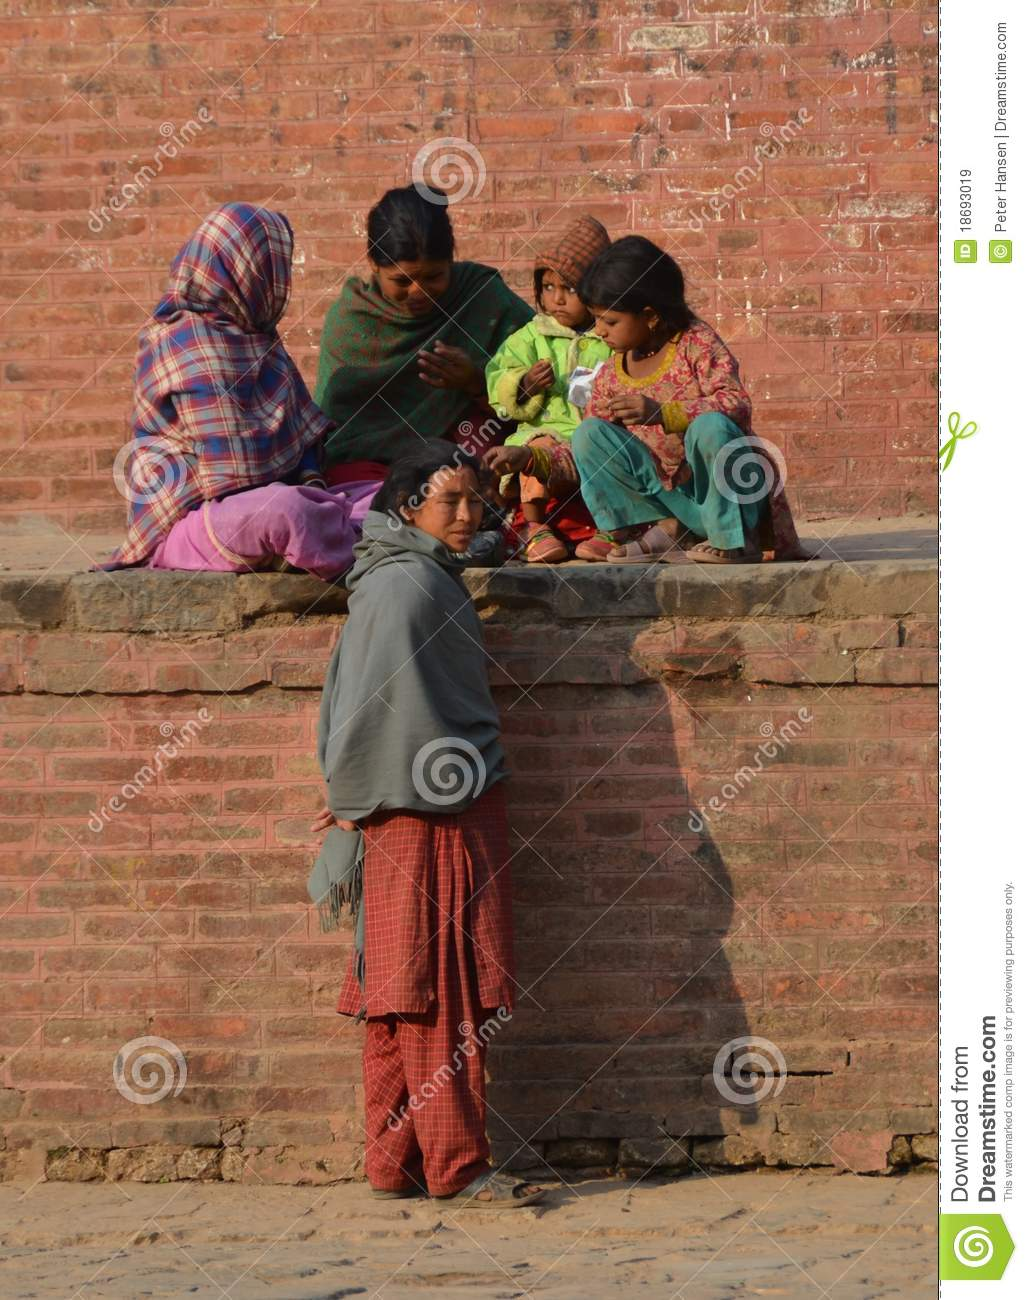human: (298, 419, 602, 1214), (109, 167, 395, 584), (556, 221, 819, 575), (315, 148, 533, 464), (476, 210, 650, 494)
